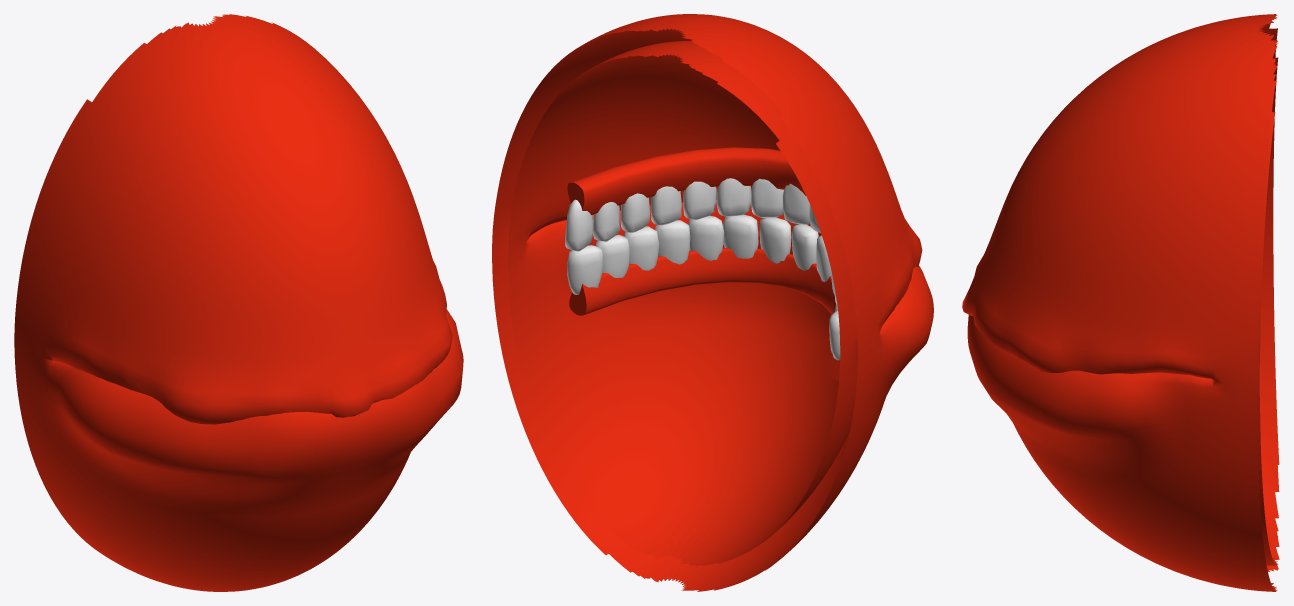
Rendered from mouth.glb.
The picture shows the model from 3 angles, left to right: view 1: azimuth 30°, elevation 25°; view 2: azimuth 150°, elevation 25°; view 3: azimuth 270°, elevation 25°; orthographic projection.
Parts seen in each view (by area): view 1: Sphere.001; view 2: Sphere.001, Cube.002, Cube.003, BézierCurve.002, BézierCurve.003; view 3: Sphere.001.
Part boxes in pixels (x1,y1,x2,y2): Sphere.001: (14, 14, 463, 591); Sphere.001: (492, 14, 933, 591); Cube.002: (567, 214, 840, 360); Cube.003: (565, 178, 837, 304); BézierCurve.002: (569, 248, 840, 380); BézierCurve.003: (567, 147, 805, 214); Sphere.001: (962, 14, 1279, 591).
Size of the model in its own units: 3.44 by 4.83 by 2.54.
